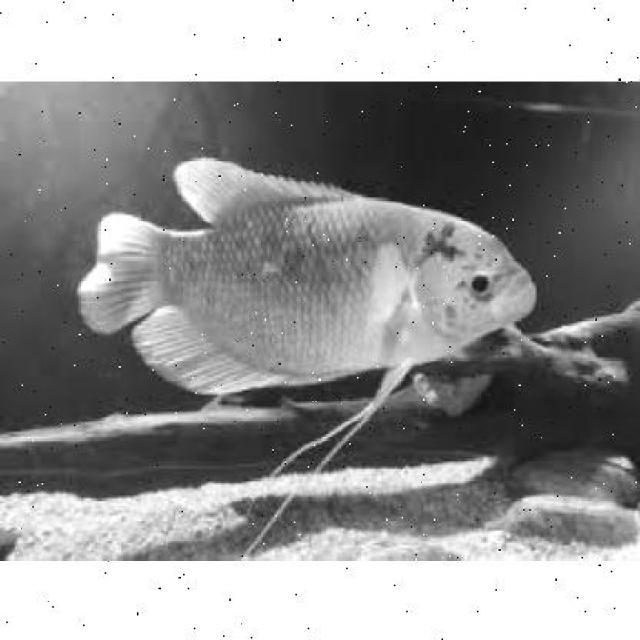gurame: (93, 163, 535, 391)
